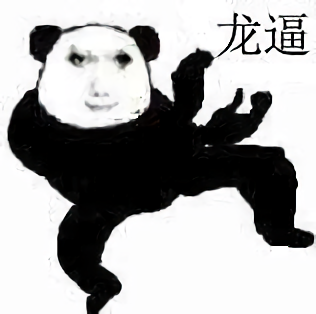dragon: (62, 44, 135, 115)
